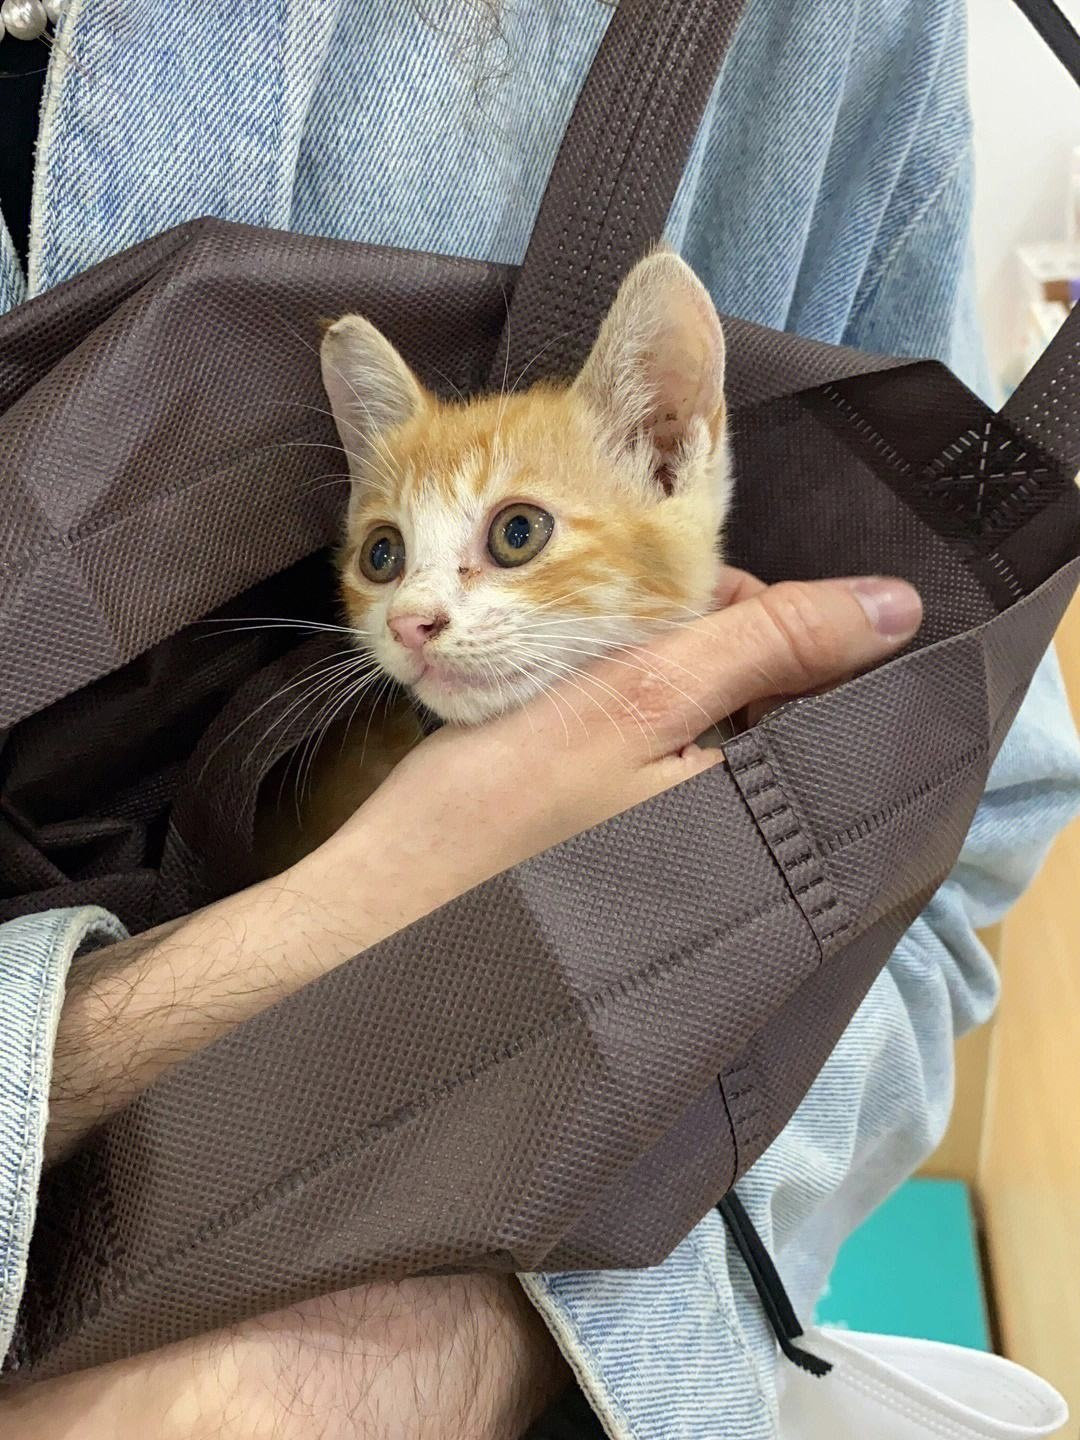cat: (306, 247, 739, 728)
